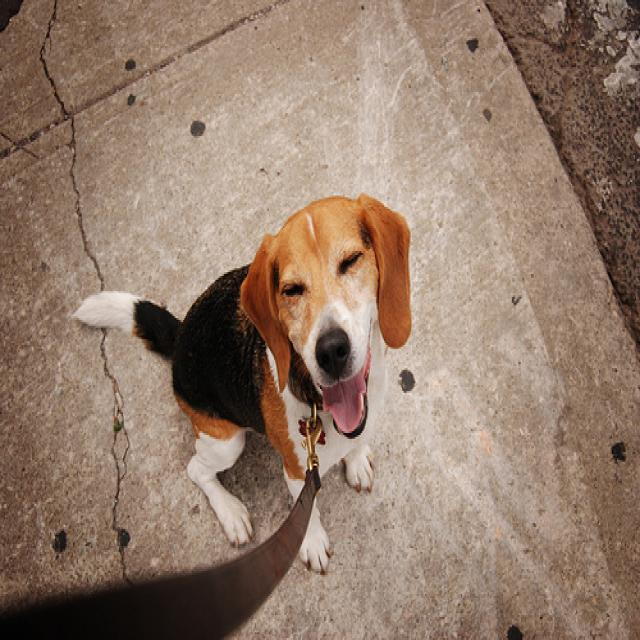dog-beagle: (64, 188, 420, 556)
